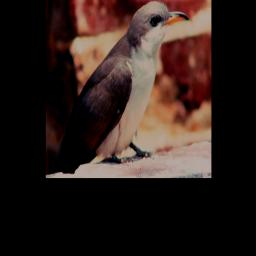Cuckoo: (49, 1, 189, 176)
